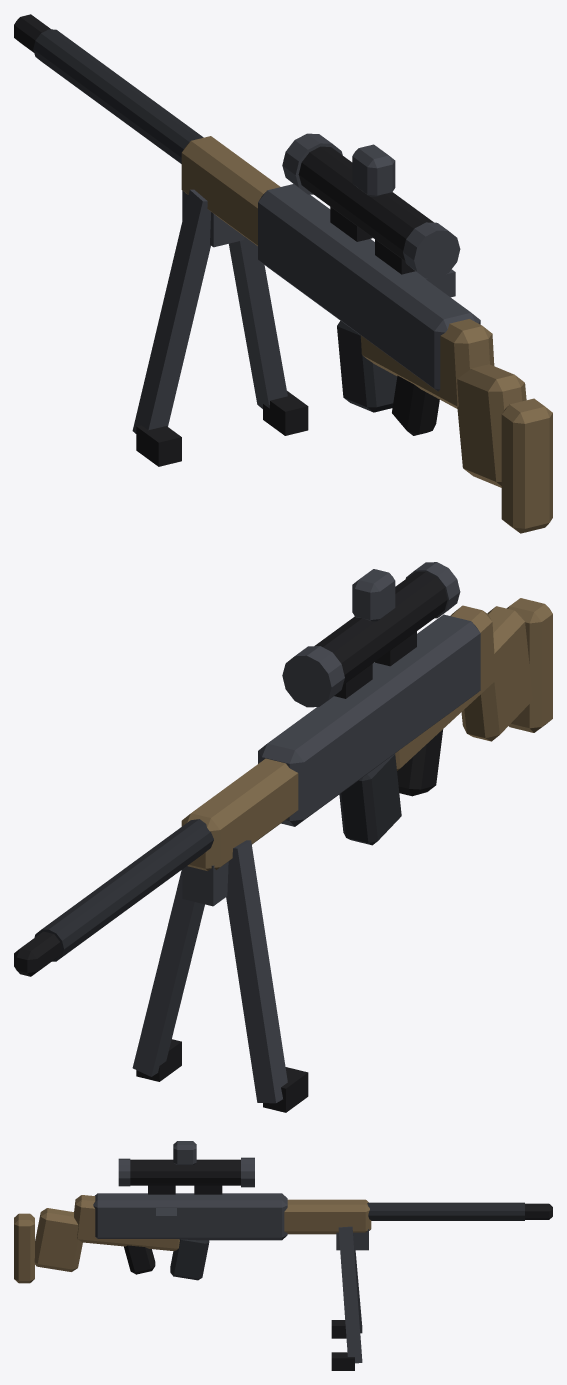
File: wep_sniper.glb
3 views of the same model, one above another, from view 1: azimuth 30°, elevation 25°; view 2: azimuth 150°, elevation 25°; view 3: azimuth 270°, elevation 25° (orthographic). The views are drawn at different scales.
Visible parts, largest first — view 1: wep_sniper; view 2: wep_sniper; view 3: wep_sniper.
Part boxes in pixels (x1,y1,x2,y2): wep_sniper: (14, 14, 552, 533); wep_sniper: (14, 562, 552, 1112); wep_sniper: (14, 1141, 552, 1370).
Bounding box in the file's own units: 0.194 × 0.495 × 1.16.
